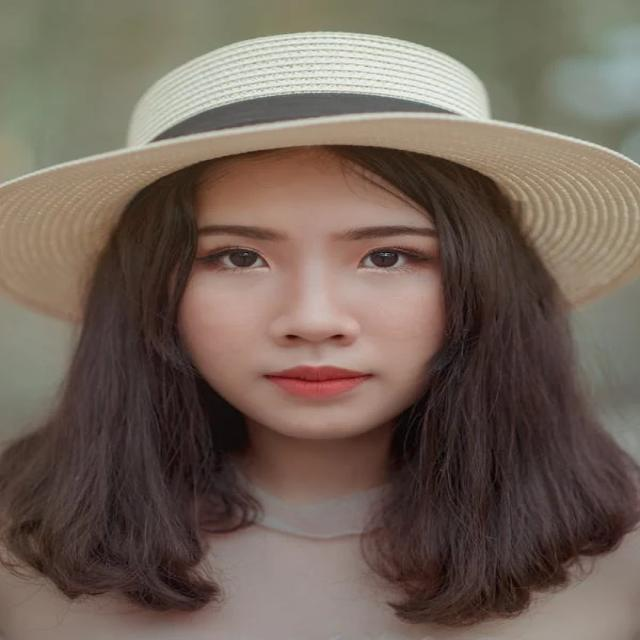no_mask: (135, 152, 531, 456)
